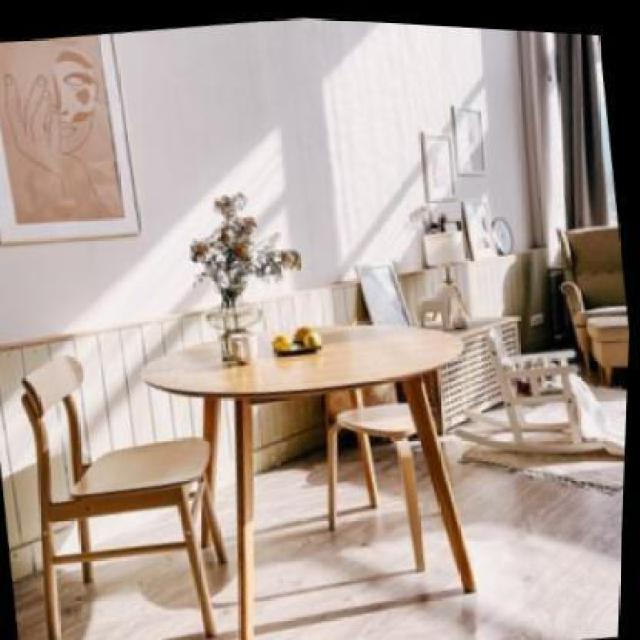tables: (138, 323, 476, 639)
